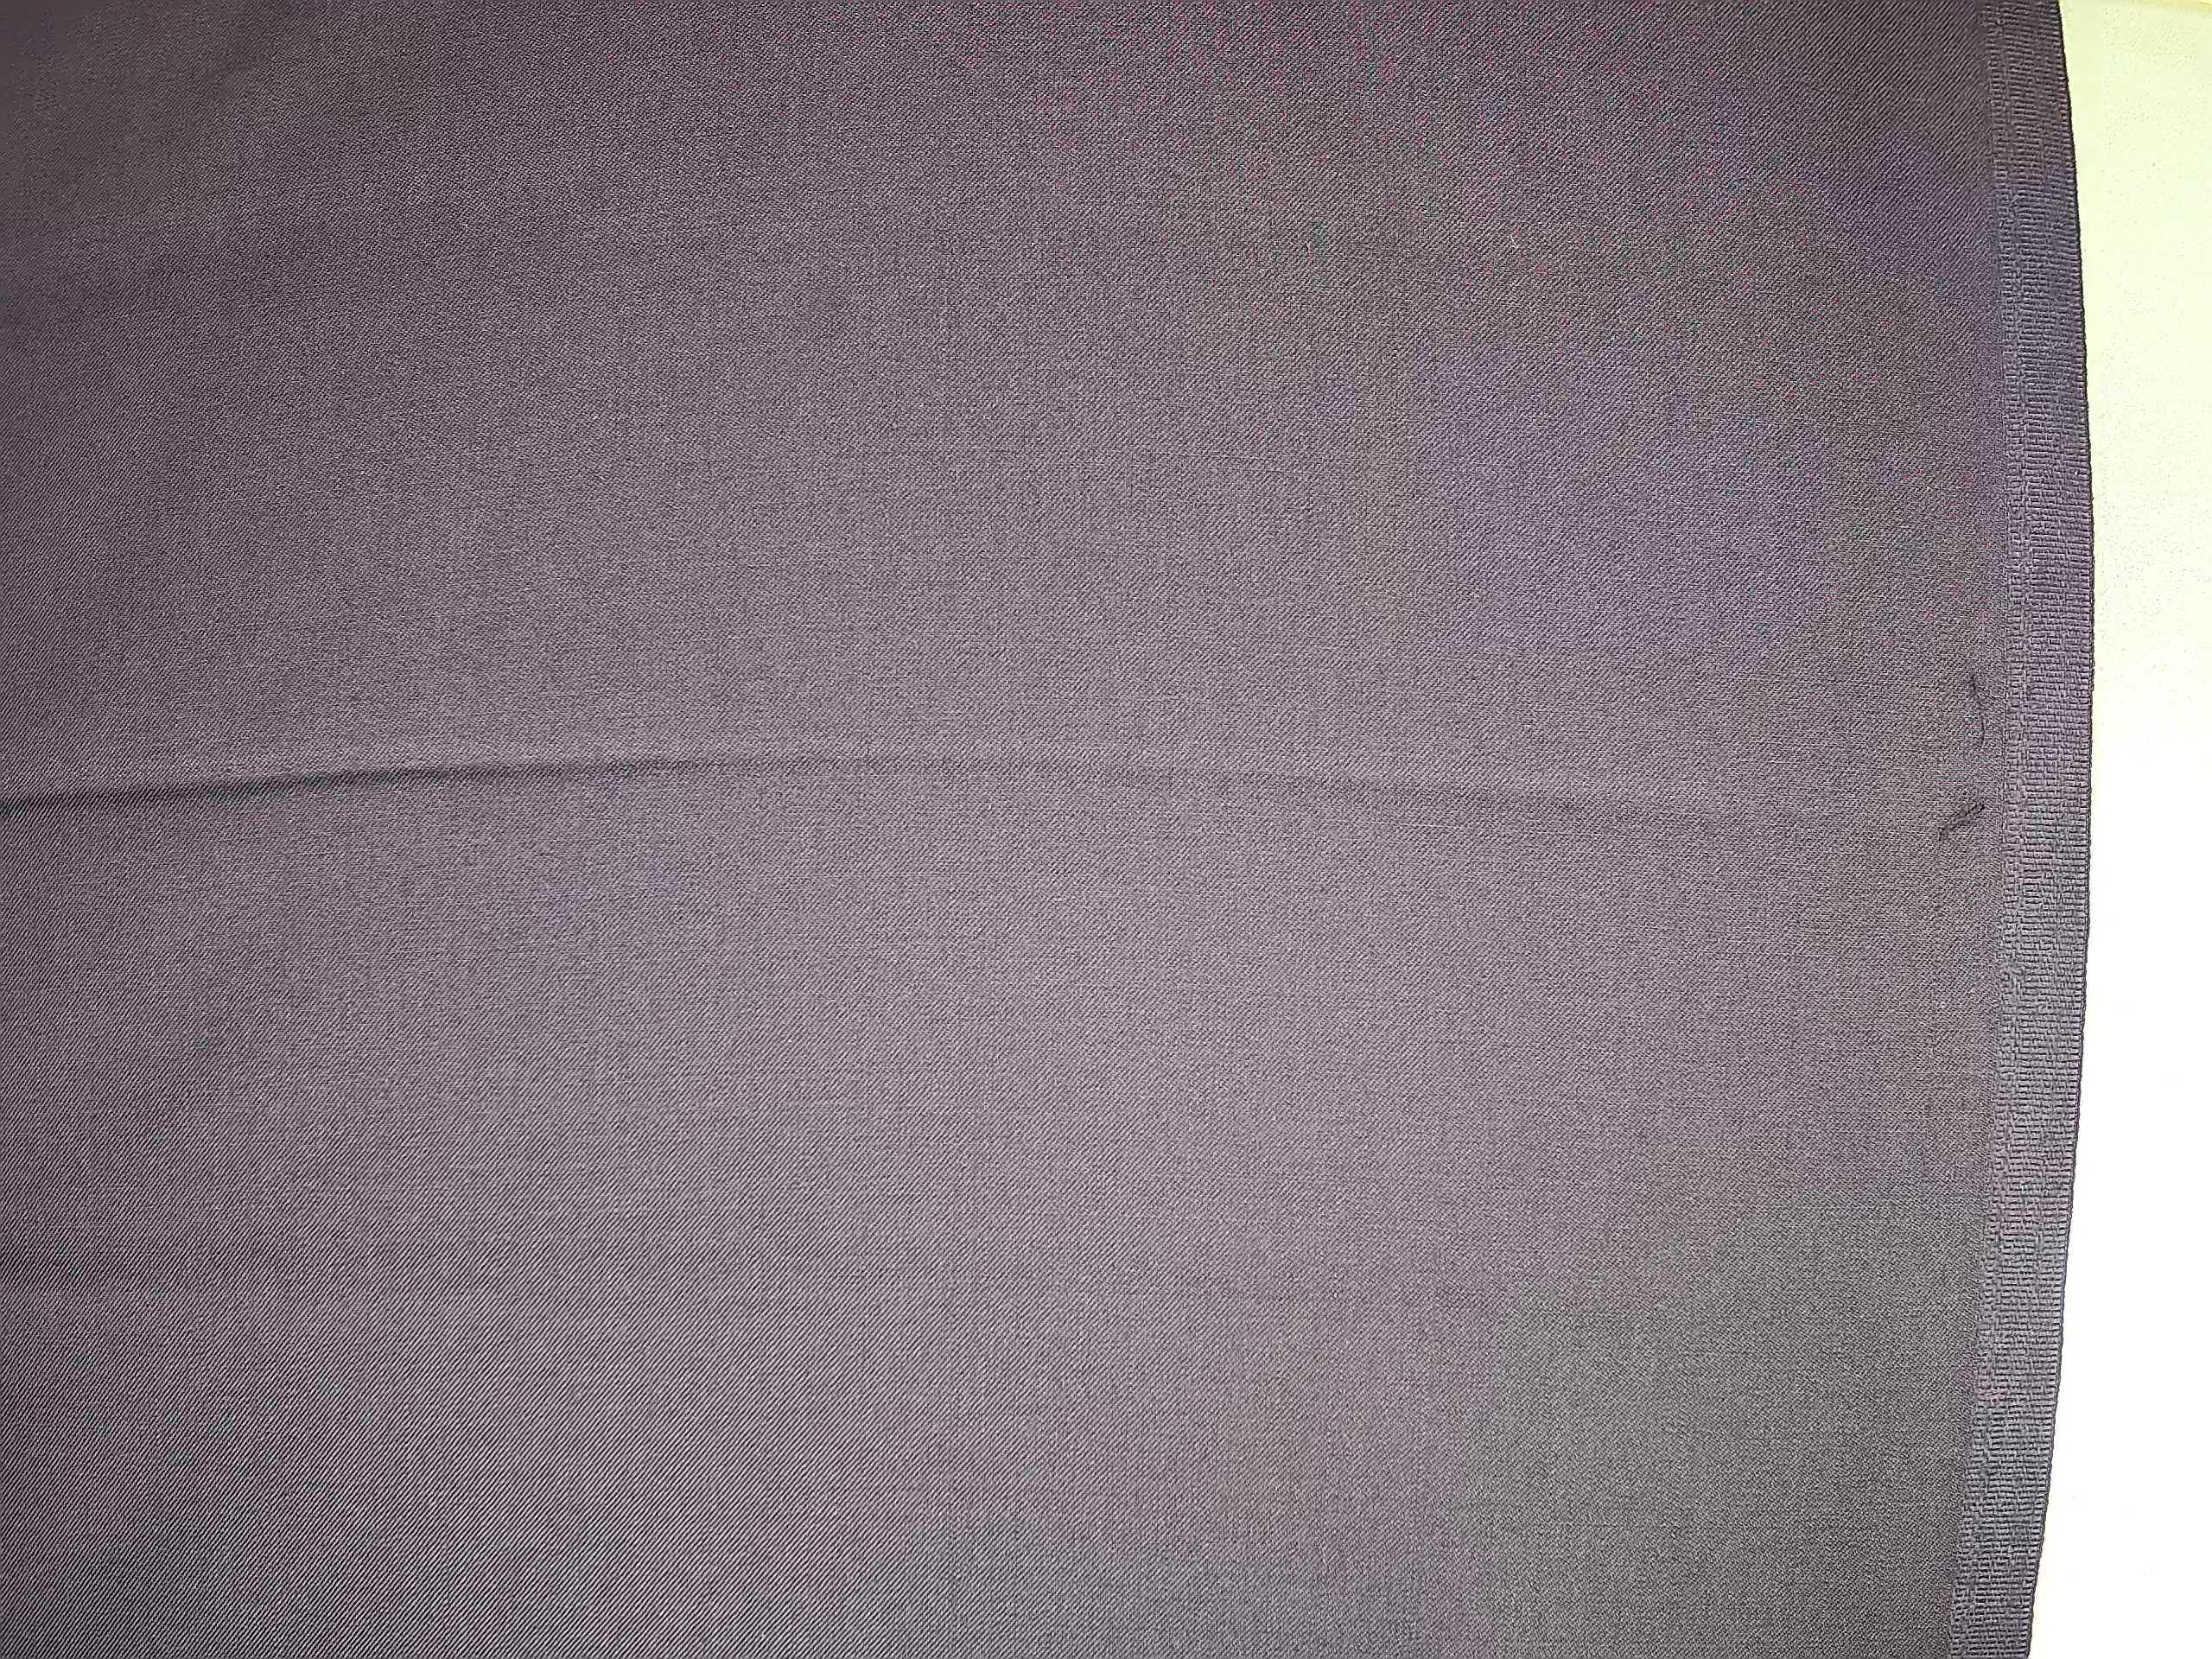others: (1919, 638, 2000, 882)
